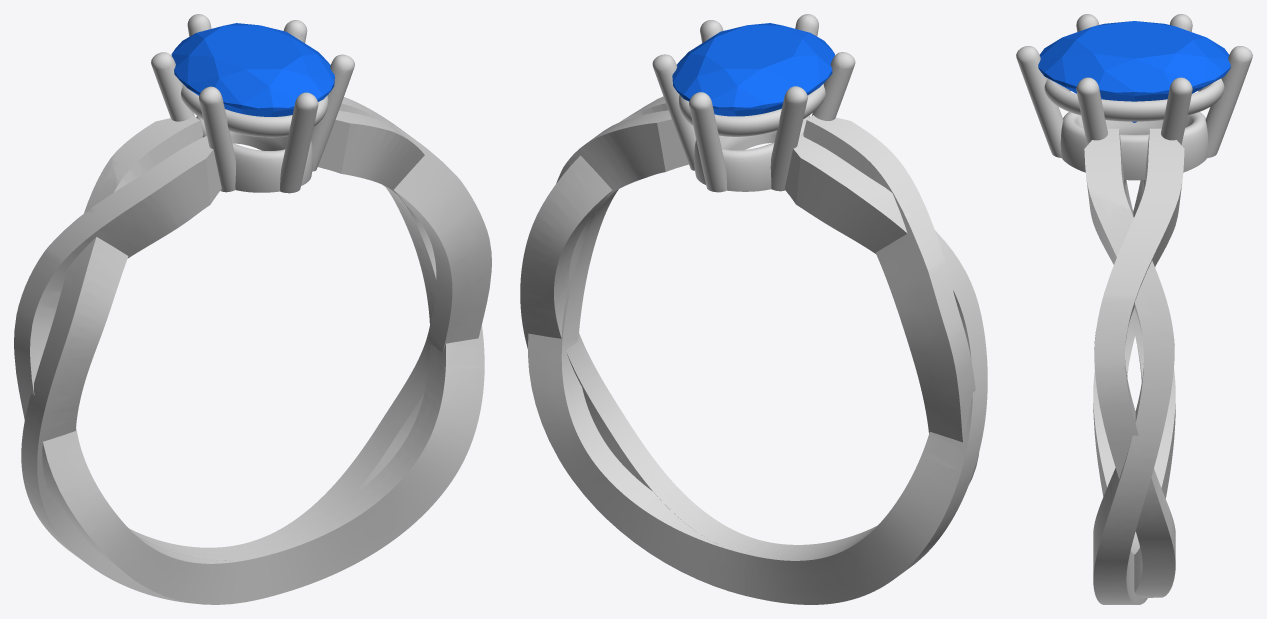
File: bluesapphire-oval-platinum-6prong-twist-nosidestones.glb
3 views of the same model, side by side, from view 1: azimuth 30°, elevation 25°; view 2: azimuth 150°, elevation 25°; view 3: azimuth 270°, elevation 25° (orthographic).
Visible parts, largest first — view 1: metal.001, stone; view 2: metal.001, stone; view 3: metal.001, stone.
Part boxes in pixels (x1=…): metal.001: x1=14, y1=14, x2=491, y2=604; stone: x1=171, y1=23, x2=334, y2=116; metal.001: x1=520, y1=14, x2=987, y2=604; stone: x1=672, y1=23, x2=834, y2=116; metal.001: x1=1016, y1=14, x2=1252, y2=604; stone: x1=1038, y1=21, x2=1230, y2=122.
Size of the model in its own units: 19.97 by 23.31 by 9.29.
